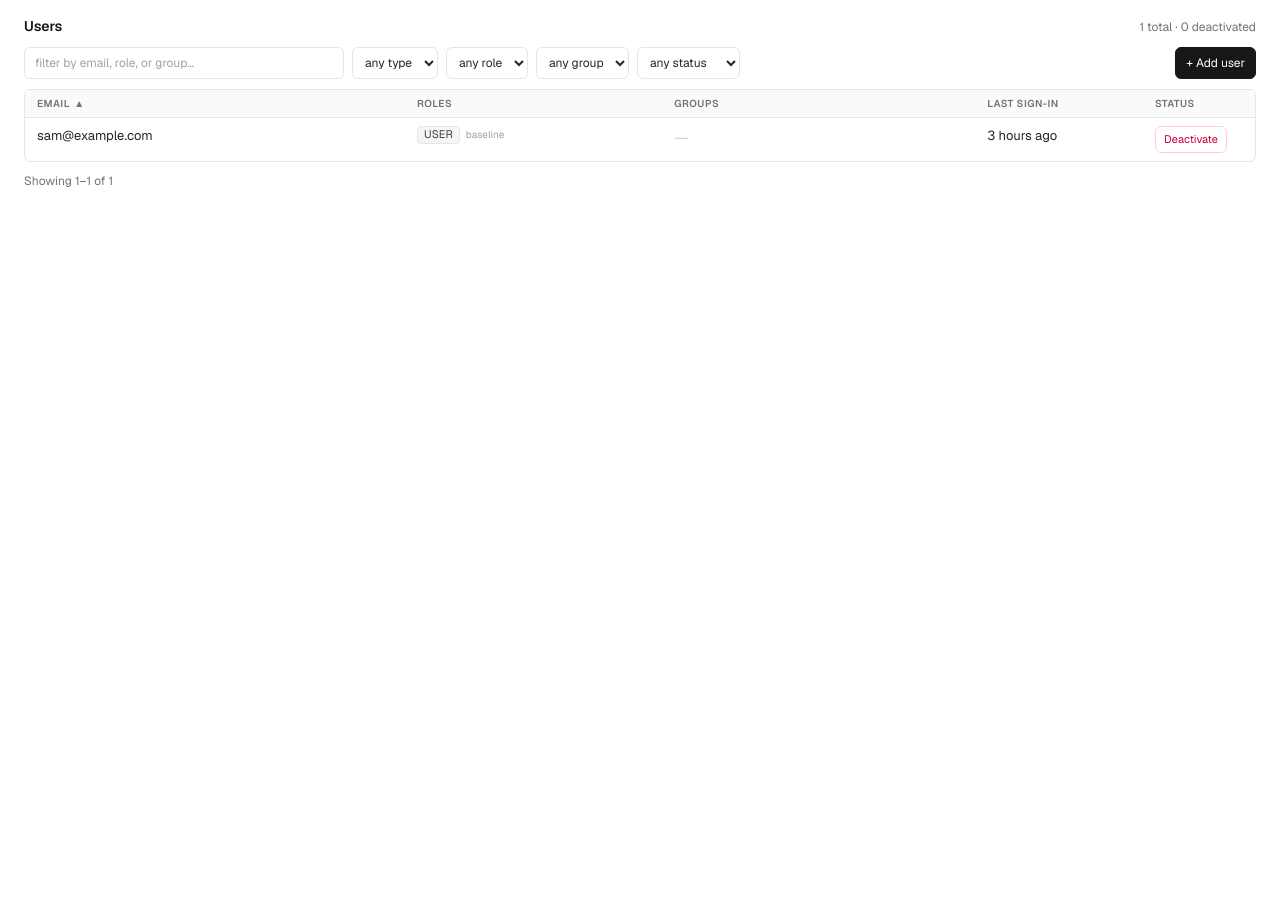
Test: UsersManager › reports a failed permission lookup in its own section and still shows credentials
Click the button "sam@example.com". click: click(95, 136)
box: top-left (37, 126), bottom-right (153, 146)
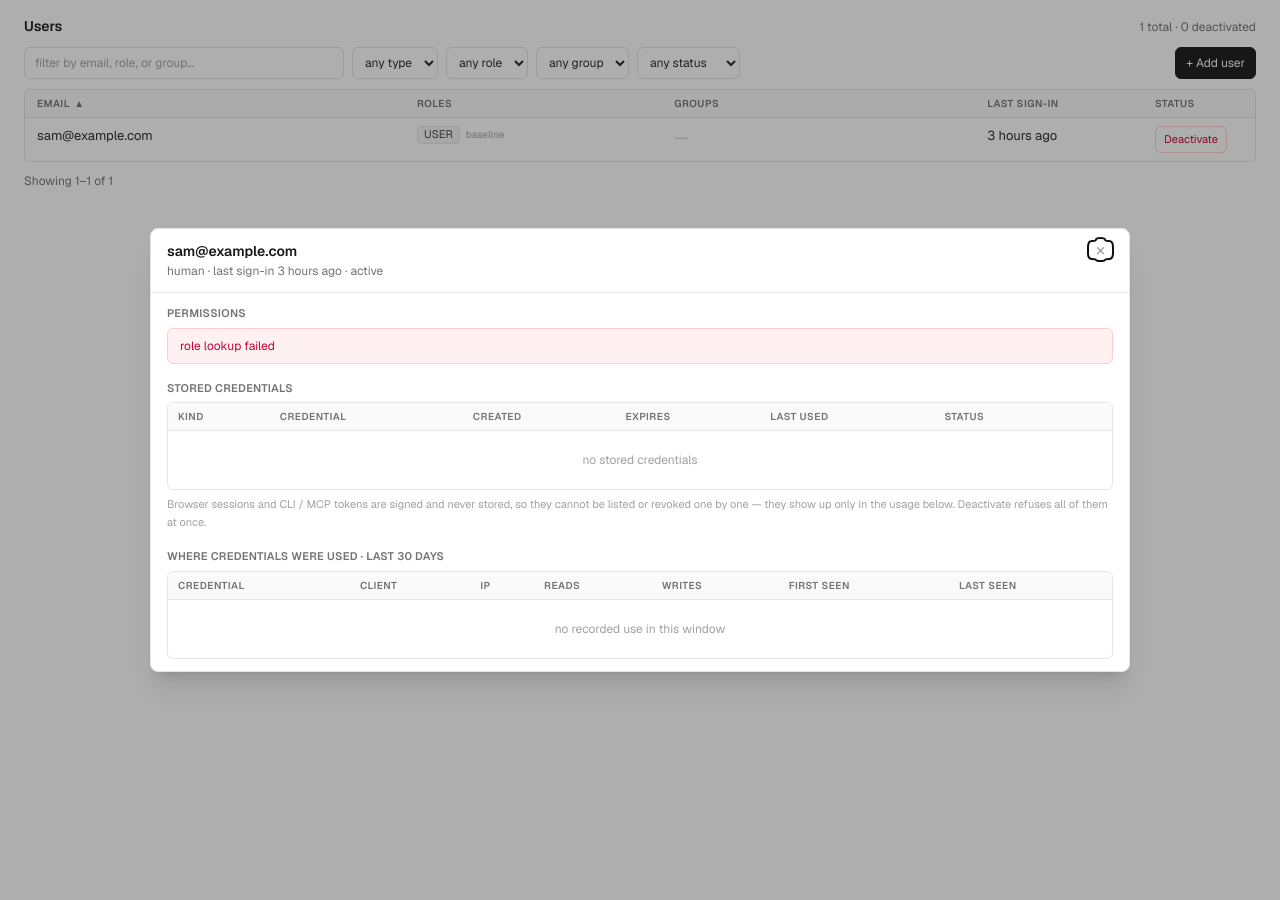
Result: the dialog shows "Stored credentials" at top-left (167, 381), bottom-right (293, 395)
